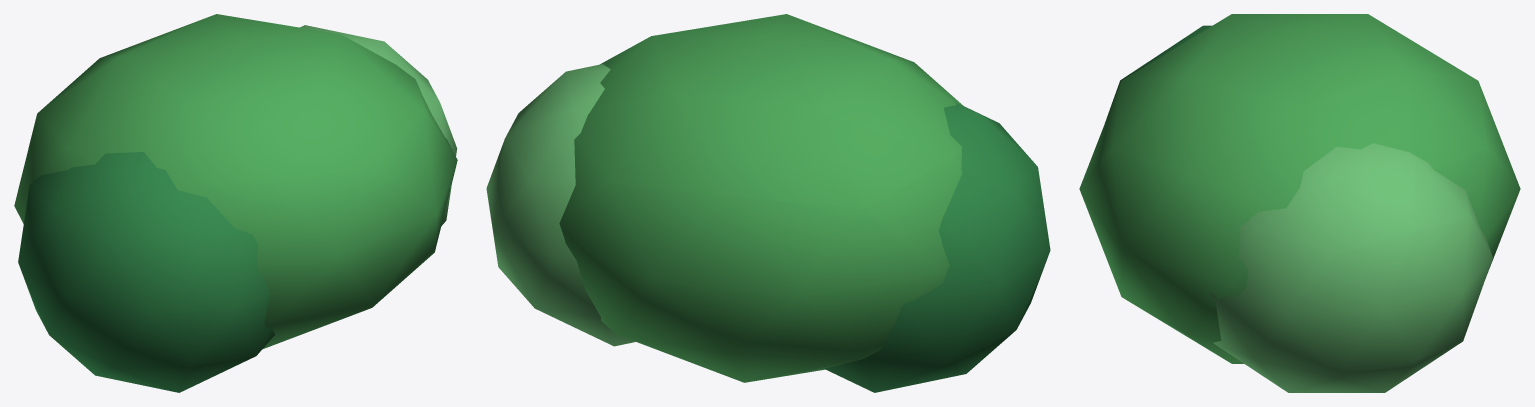
File: bush.glb
The picture shows the model from 3 angles, left to right: view 1: azimuth 30°, elevation 25°; view 2: azimuth 150°, elevation 25°; view 3: azimuth 270°, elevation 25°; orthographic projection. The views are drawn at different scales.
Visible parts, largest first — view 1: bush; view 2: bush; view 3: bush.
Boxes of the visible parts, bbox=[...] form: bush: bbox=[14, 14, 457, 392]; bush: bbox=[486, 14, 1050, 392]; bush: bbox=[1079, 14, 1520, 392].
Bounding box in the file's own units: 0.6 × 0.4 × 0.5.
